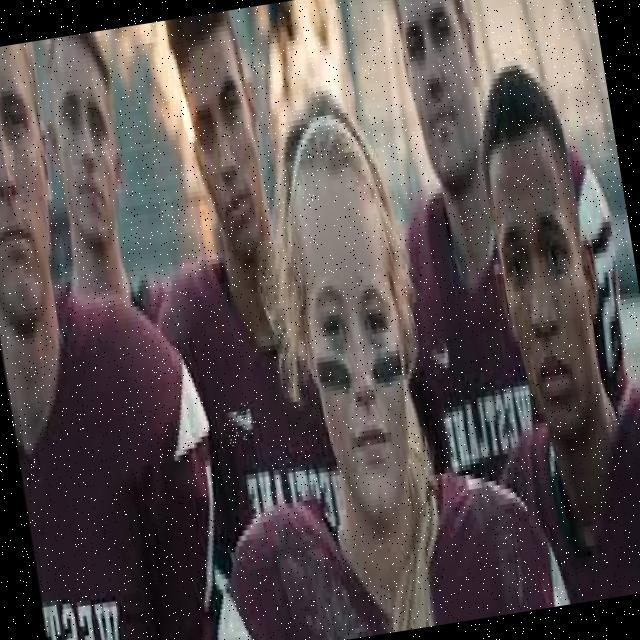Nike: (222, 399, 260, 447), (425, 330, 455, 383)
